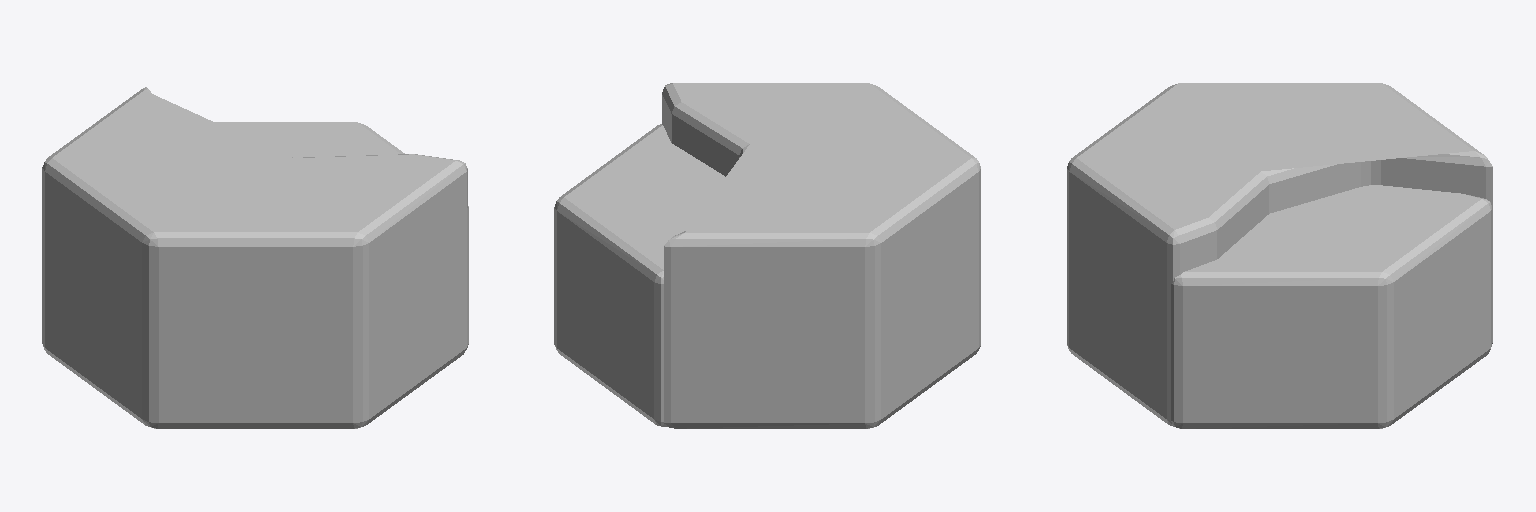
The model's file is grass_water1.obj.
3 renders of one model, left to right at view 1: azimuth 30°, elevation 25°; view 2: azimuth 150°, elevation 25°; view 3: azimuth 270°, elevation 25°, orthographic.
Visible parts, largest first — view 1: grass_water1; view 2: grass_water1; view 3: grass_water1.
Part boxes in pixels (left/top/right/bottom): grass_water1: left=42, top=87, right=468, bottom=428; grass_water1: left=554, top=83, right=980, bottom=428; grass_water1: left=1067, top=83, right=1492, bottom=428.
Bounding box in the file's own units: 6.93 × 4 × 7.88.